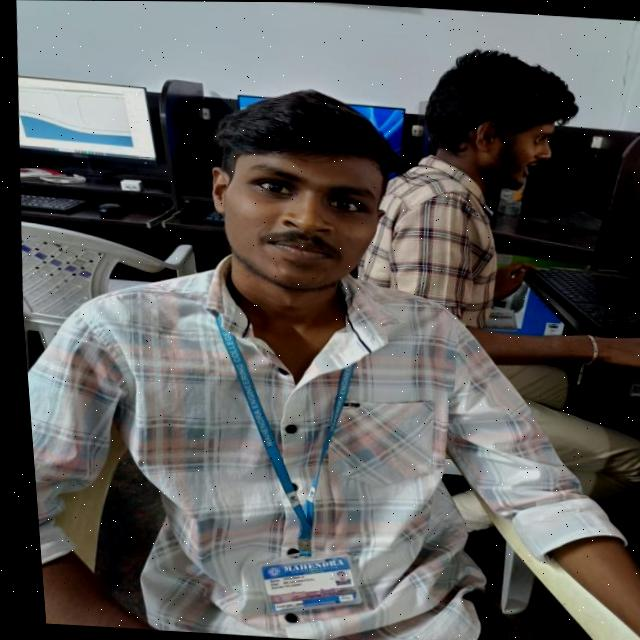id_card: (185, 307, 381, 620)
